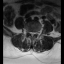CCS_normal: (31, 30, 33, 38)
LFS_normal: (35, 30, 37, 36)
LLS_normal: (33, 30, 35, 36)
RFS_stenosis: (27, 29, 29, 35)
RLS_stenosis: (29, 30, 31, 36)
